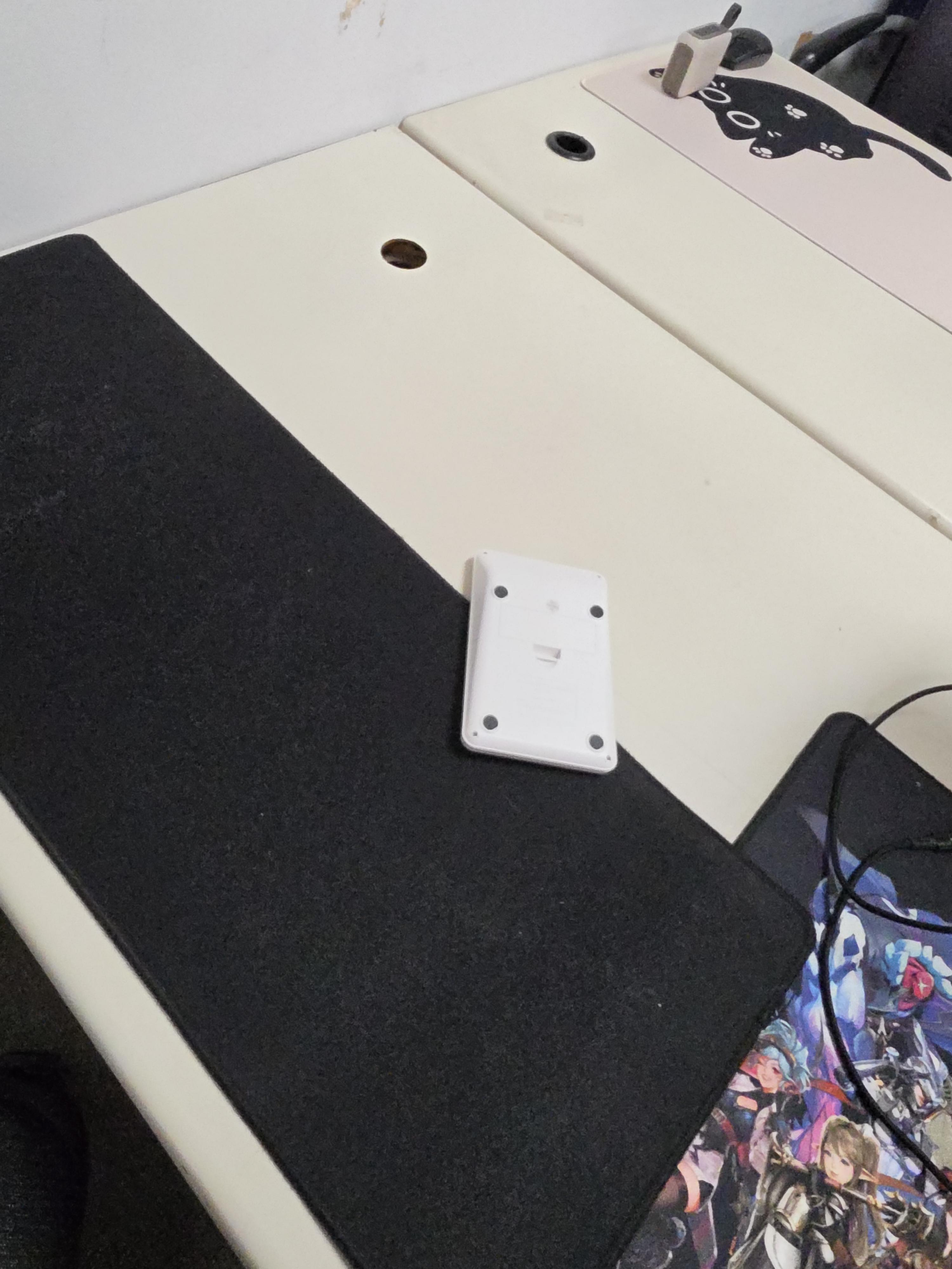calculator: (460, 549, 619, 774)
